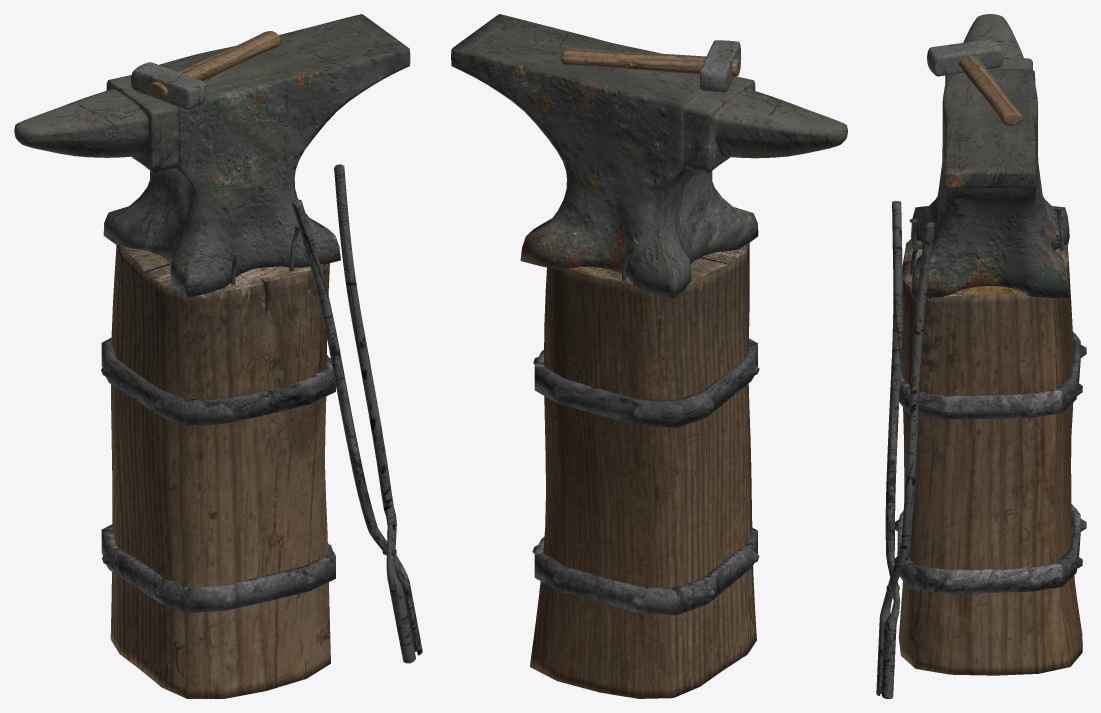
Rendered from anvil_pbr.glb.
3 renders of one model, left to right at view 1: azimuth 30°, elevation 25°; view 2: azimuth 150°, elevation 25°; view 3: azimuth 270°, elevation 25°, orthographic. The views are drawn at different scales.
Parts seen in each view (by area): view 1: Cube:009_Cube:010.002_0; view 2: Cube:009_Cube:010.002_0; view 3: Cube:009_Cube:010.002_0.
Boxes of the visible parts, x1,y1,x2,y2 form: Cube:009_Cube:010.002_0: (14,14,422,698); Cube:009_Cube:010.002_0: (451,14,847,698); Cube:009_Cube:010.002_0: (876,14,1086,698).
Bounding box in the file's own units: 0.7761 × 1.22 × 0.4112.
Materials: 1 (1 with a texture image).
